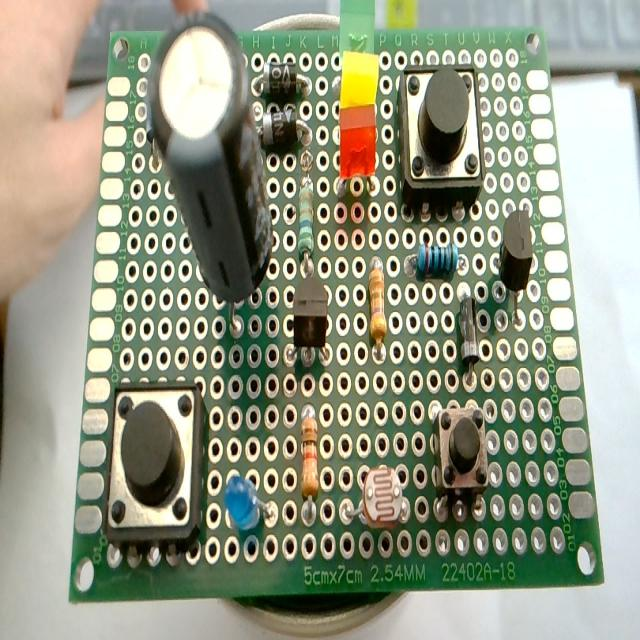Electrolytic capacitor: (145, 12, 275, 336)
cds: (339, 460, 418, 542)
diode: (454, 281, 484, 387), (253, 53, 315, 103), (255, 101, 315, 152)
led: (220, 463, 285, 543), (337, 106, 380, 204), (334, 51, 384, 118), (334, 1, 383, 66)
resistor: (295, 403, 322, 529), (294, 165, 320, 279), (365, 250, 389, 364), (404, 239, 469, 280)
switch: (100, 372, 212, 556), (391, 55, 492, 213), (422, 398, 502, 508)
transistor: (491, 202, 544, 332), (286, 278, 336, 371)
